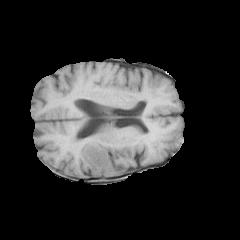glioma: (80, 135, 136, 176)
